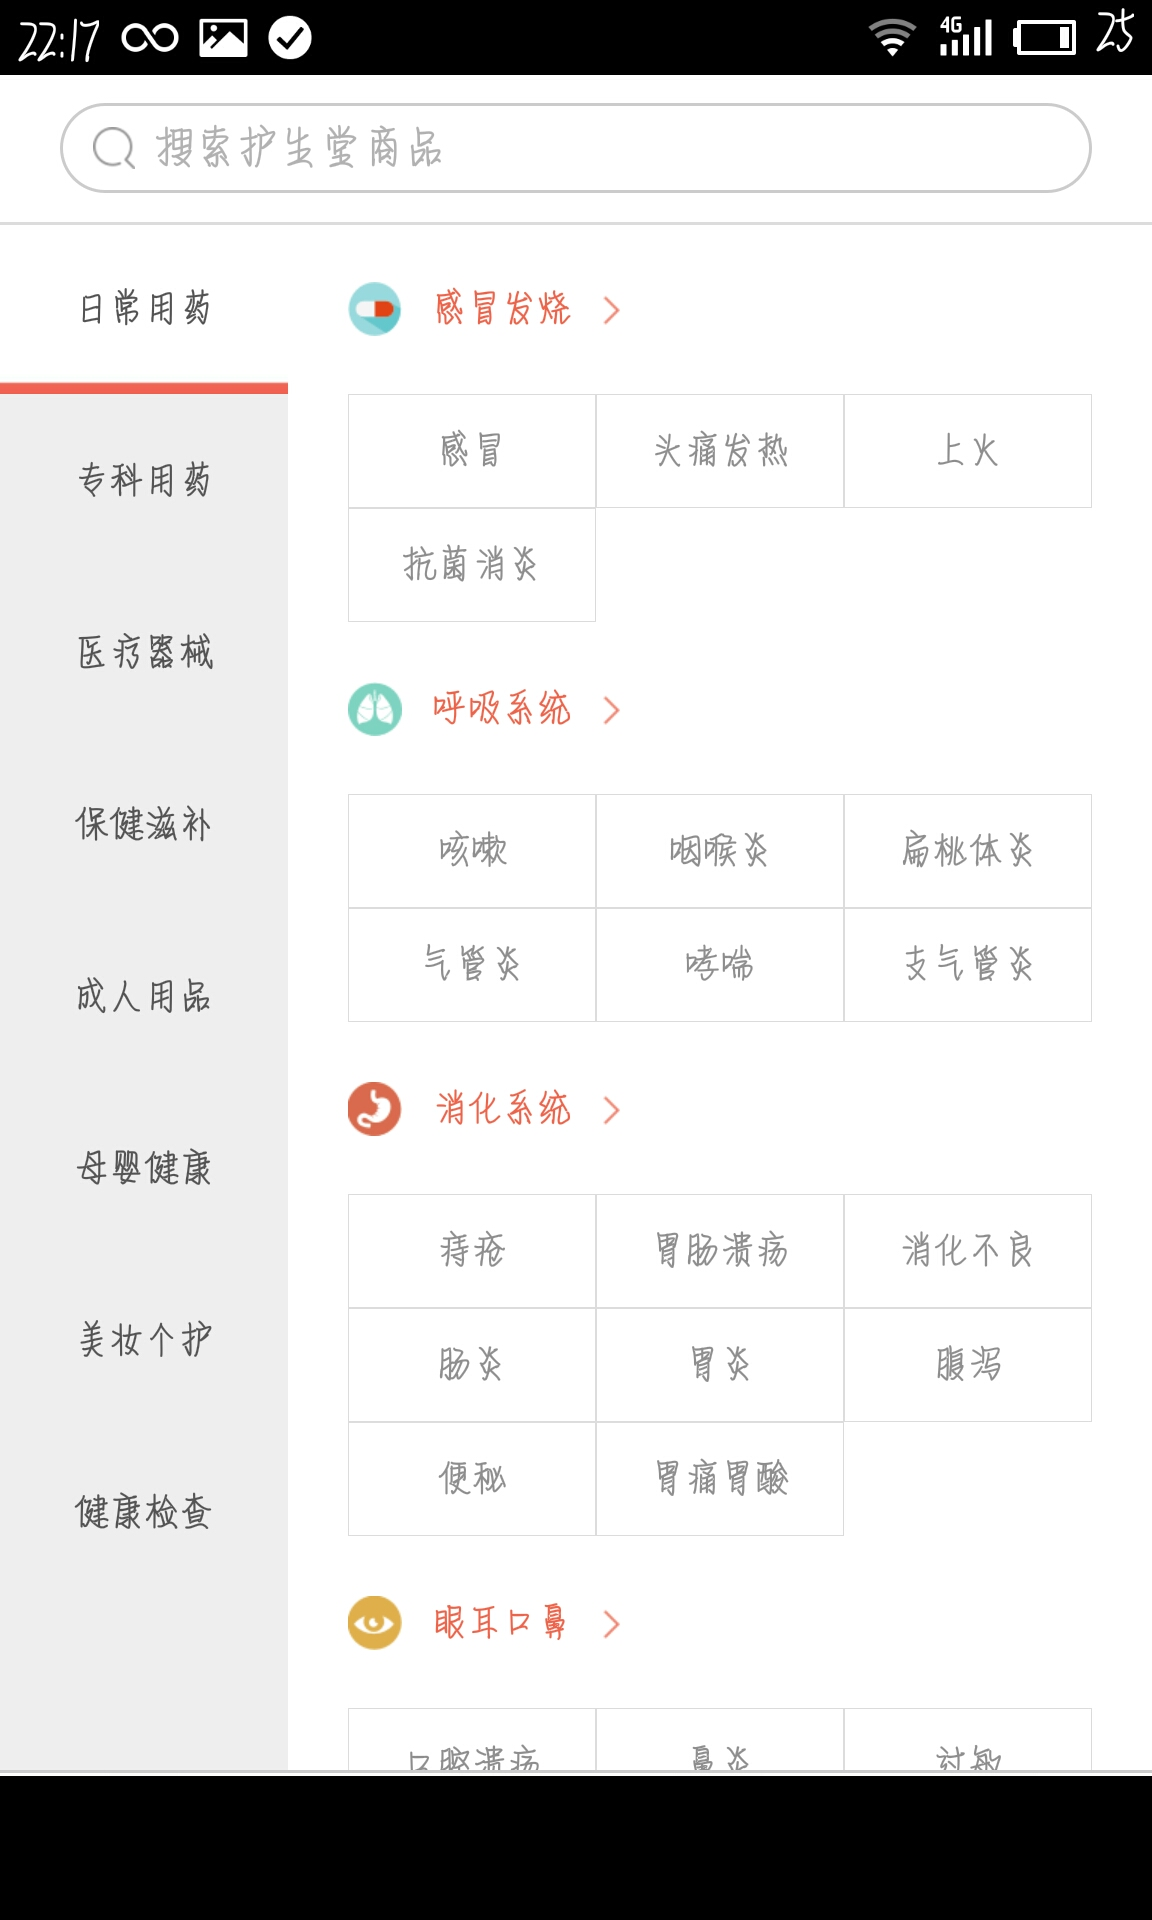imgbutton: (424, 1589, 669, 1662), (420, 274, 660, 339), (424, 1077, 673, 1133), (427, 682, 645, 743)
nav: (5, 228, 292, 1781)
textview: (53, 93, 1101, 206)
